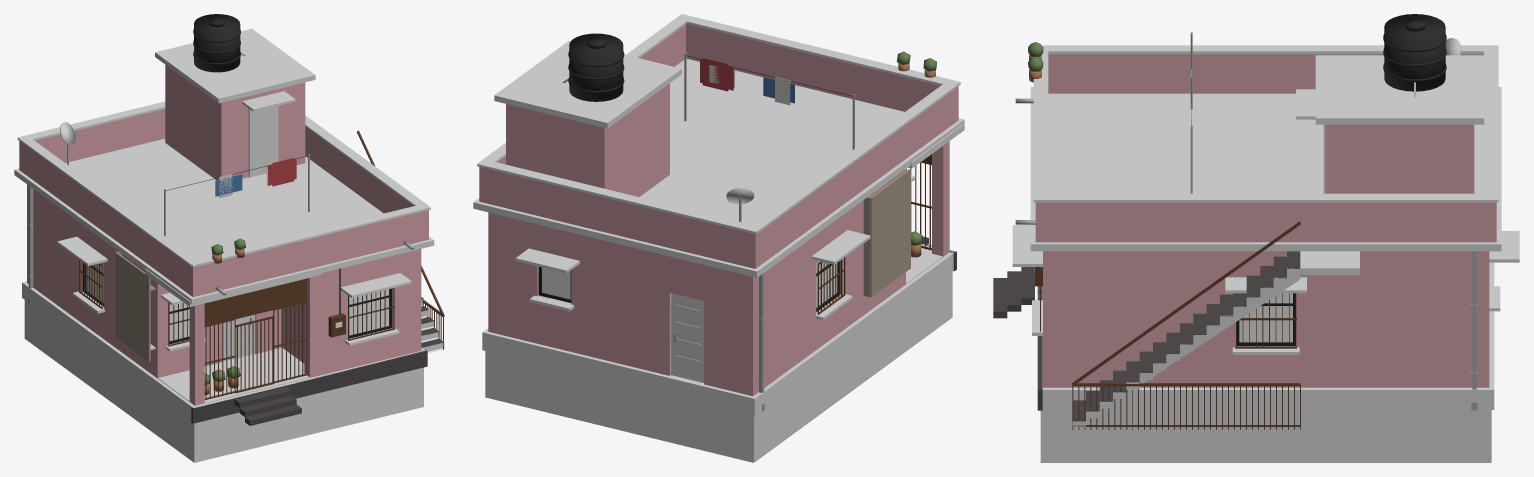
File: tn_house_7x9_1.glb
3 renders of one model, left to right at view 1: azimuth 30°, elevation 25°; view 2: azimuth 150°, elevation 25°; view 3: azimuth 270°, elevation 25°, orthographic. The views are drawn at different scales.
Parts seen in each view (by area): view 1: tn_house_7x9_1; view 2: tn_house_7x9_1; view 3: tn_house_7x9_1.
Boxes of the visible parts, bbox=[...] form: tn_house_7x9_1: bbox=[14, 14, 444, 462]; tn_house_7x9_1: bbox=[473, 14, 964, 462]; tn_house_7x9_1: bbox=[993, 14, 1519, 462].
Size of the model in its own units: 8.67 by 8.85 by 10.61.
